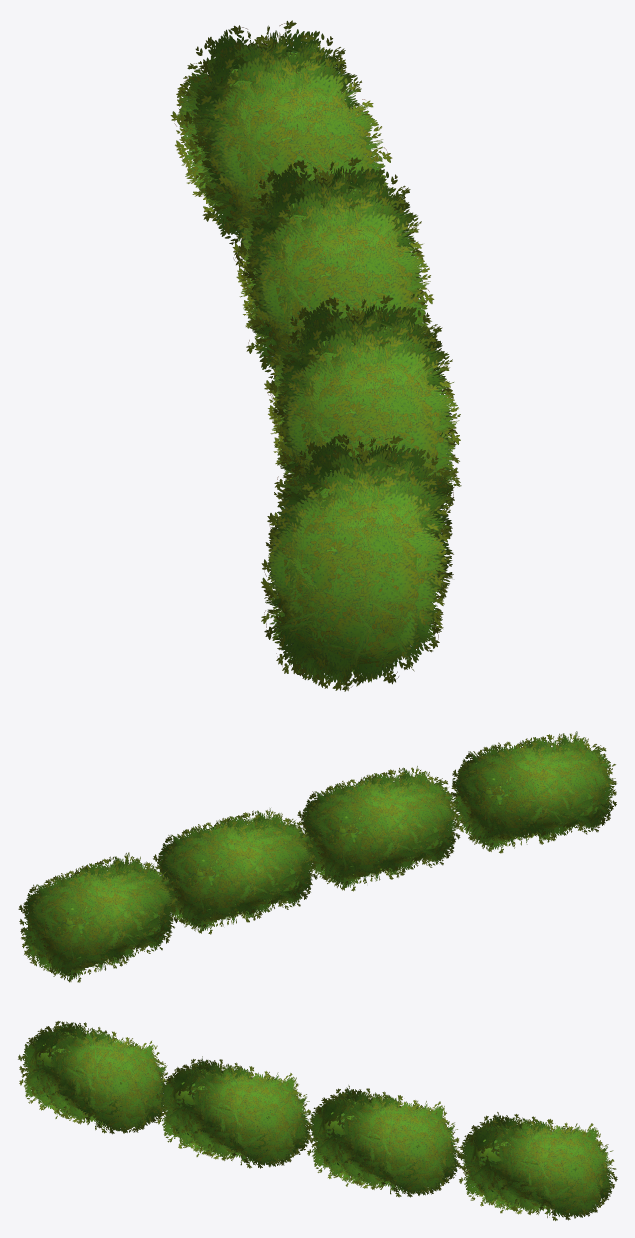
Rendered from SM_Bush06_Splines_14.fbx.
3 renders of one model, top to bottom at view 1: azimuth 30°, elevation 25°; view 2: azimuth 150°, elevation 25°; view 3: azimuth 270°, elevation 25°, orthographic. The views are drawn at different scales.
Visible parts, largest first — view 1: SM_Bush06_Splines_14_LOD0; view 2: SM_Bush06_Splines_14_LOD0; view 3: SM_Bush06_Splines_14_LOD0.
Boxes of the visible parts, x1,y1,x2,y2 form: SM_Bush06_Splines_14_LOD0: (170,20,461,691); SM_Bush06_Splines_14_LOD0: (18,731,616,982); SM_Bush06_Splines_14_LOD0: (18,1021,617,1220).
Size of the model in its own units: 560 by 975 by 166.
